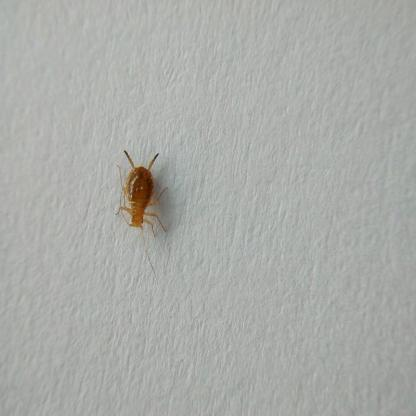aphid: (112, 138, 168, 242)
